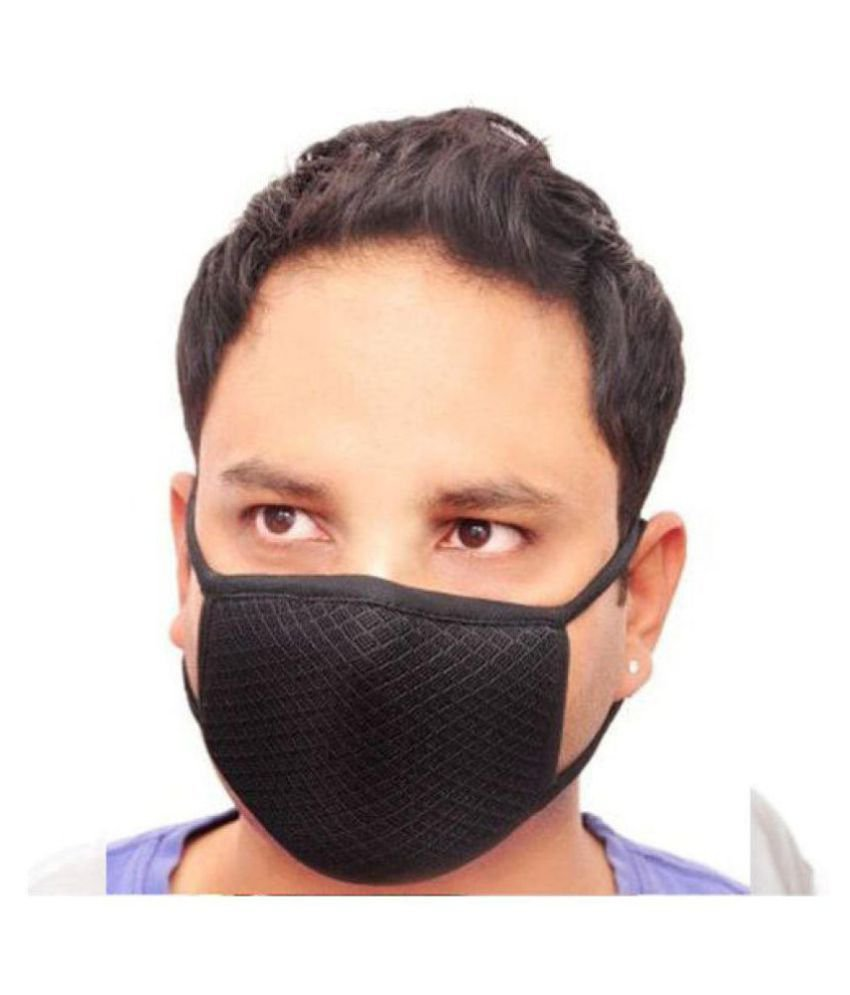mask: (142, 95, 724, 887)
